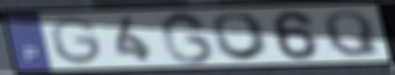4: (113, 14, 156, 65)
6: (270, 9, 324, 62)
G: (157, 10, 218, 66), (47, 15, 106, 67)
O: (210, 11, 274, 62)
Q: (321, 9, 384, 59)
